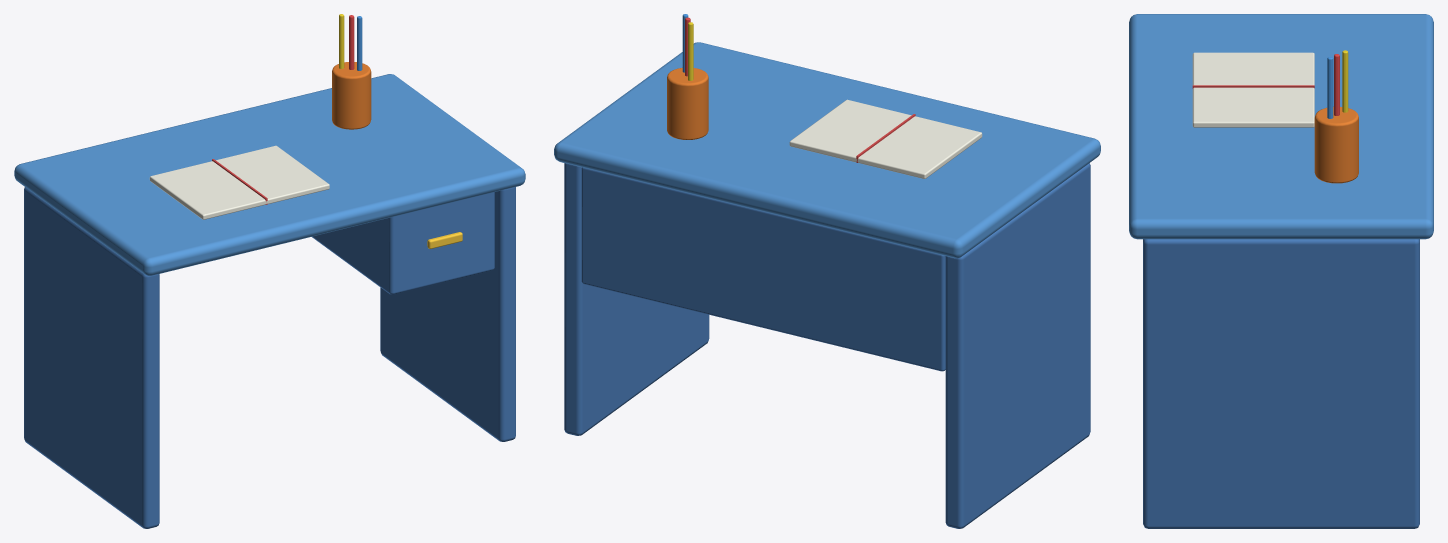
File: kids_desk.glb
3 renders of one model, left to right at view 1: azimuth 30°, elevation 25°; view 2: azimuth 150°, elevation 25°; view 3: azimuth 270°, elevation 25°, orthographic. The views are drawn at different scales.
Parts seen in each view (by area): view 1: Cube, Cube.001, Cube.002, Cube.004, Cube.006, Cylinder; view 2: Cube, Cube.003, Cube.001, Cube.002, Cube.006, Cylinder; view 3: Cube.002, Cube, Cube.006, Cylinder, Cylinder.001, Cylinder.002, Cube.007, Cylinder.003.
Part boxes in pixels (bbox=[...]): Cube: bbox=[14, 74, 525, 275]; Cube.001: bbox=[24, 187, 159, 528]; Cube.002: bbox=[380, 187, 515, 441]; Cube.004: bbox=[311, 192, 494, 294]; Cube.006: bbox=[149, 145, 329, 219]; Cylinder: bbox=[332, 62, 371, 129]; Cube: bbox=[554, 42, 1100, 258]; Cube.003: bbox=[581, 167, 945, 371]; Cube.001: bbox=[945, 163, 1090, 528]; Cube.002: bbox=[564, 163, 709, 435]; Cube.006: bbox=[789, 99, 982, 178]; Cylinder: bbox=[667, 67, 708, 139]; Cube.002: bbox=[1143, 239, 1419, 528]; Cube: bbox=[1129, 14, 1433, 239]; Cube.006: bbox=[1192, 52, 1314, 127]; Cylinder: bbox=[1314, 106, 1358, 183]; Cylinder.001: bbox=[1342, 50, 1348, 112]; Cylinder.002: bbox=[1327, 56, 1333, 118]; Cube.007: bbox=[1192, 85, 1314, 88]; Cylinder.003: bbox=[1334, 54, 1339, 115].
Size of the model in its own units: 0.9 by 0.86 by 0.55.
